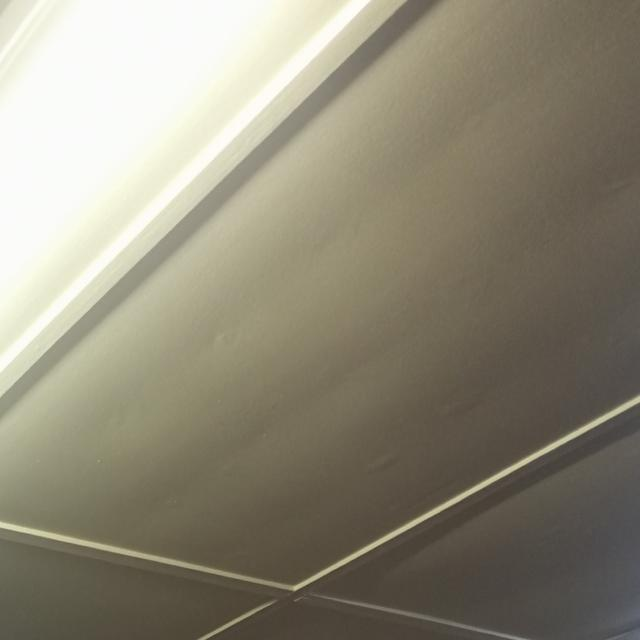fluorescent tube: (0, 0, 407, 529)
